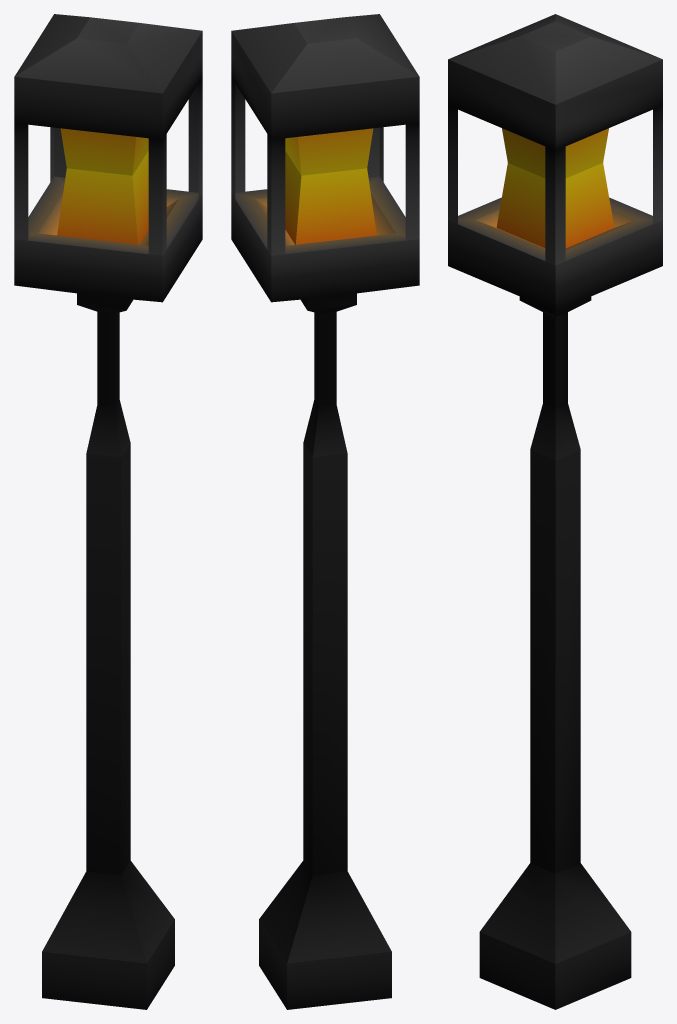
File: lightpost_mono_vis.fbx
3 renders of one model, left to right at view 1: azimuth 30°, elevation 25°; view 2: azimuth 150°, elevation 25°; view 3: azimuth 270°, elevation 25°, orthographic.
Visible parts, largest first — view 1: Lightpost vis mesh; view 2: Lightpost vis mesh; view 3: Lightpost vis mesh.
Boxes of the visible parts, box(x1,y1,x2,y2) form: Lightpost vis mesh: box(14, 14, 202, 1009); Lightpost vis mesh: box(231, 14, 419, 1009); Lightpost vis mesh: box(448, 14, 662, 1009).
Size of the model in its own units: 84.85 by 410 by 84.85.
